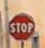stop: (7, 12, 34, 40)
